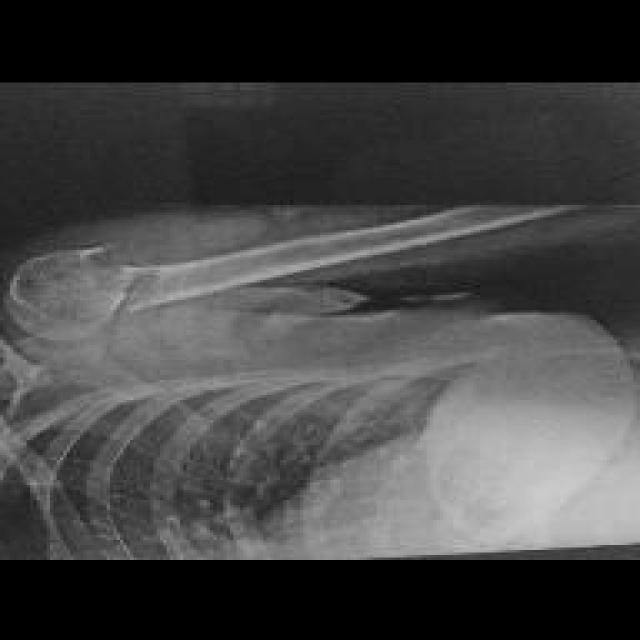bone-cancer: (10, 244, 158, 339)
